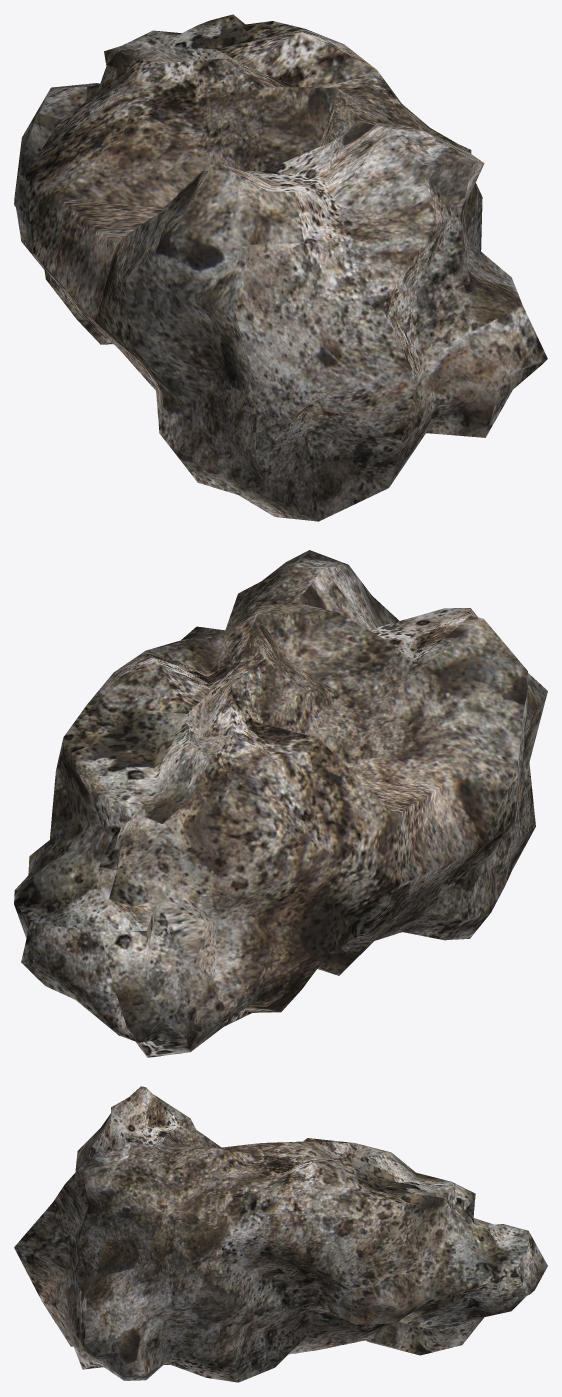
File: Rock_5x10_B.FBX
3 renders of one model, top to bottom at view 1: azimuth 30°, elevation 25°; view 2: azimuth 150°, elevation 25°; view 3: azimuth 270°, elevation 25°, orthographic. The views are drawn at different scales.
Visible parts, largest first — view 1: Rock_5x10_B; view 2: Rock_5x10_B; view 3: Rock_5x10_B.
Boxes of the visible parts, x1,y1,x2,y2 form: Rock_5x10_B: (14,14,547,521); Rock_5x10_B: (14,550,547,1057); Rock_5x10_B: (14,1086,547,1382).
Size of the model in its own units: 5.66 by 5.29 by 10.43.
1 material, 1 textured.
